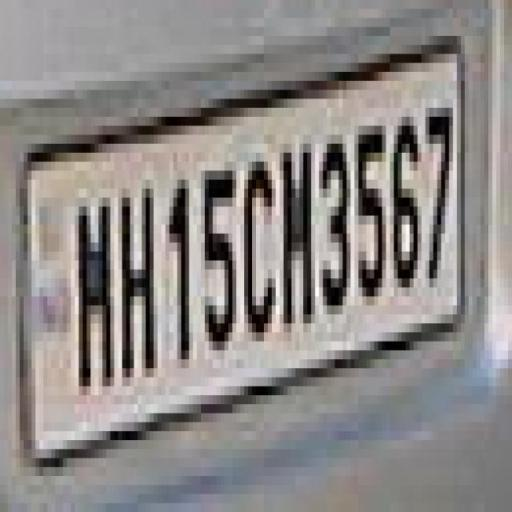number plate: (16, 72, 465, 413)
